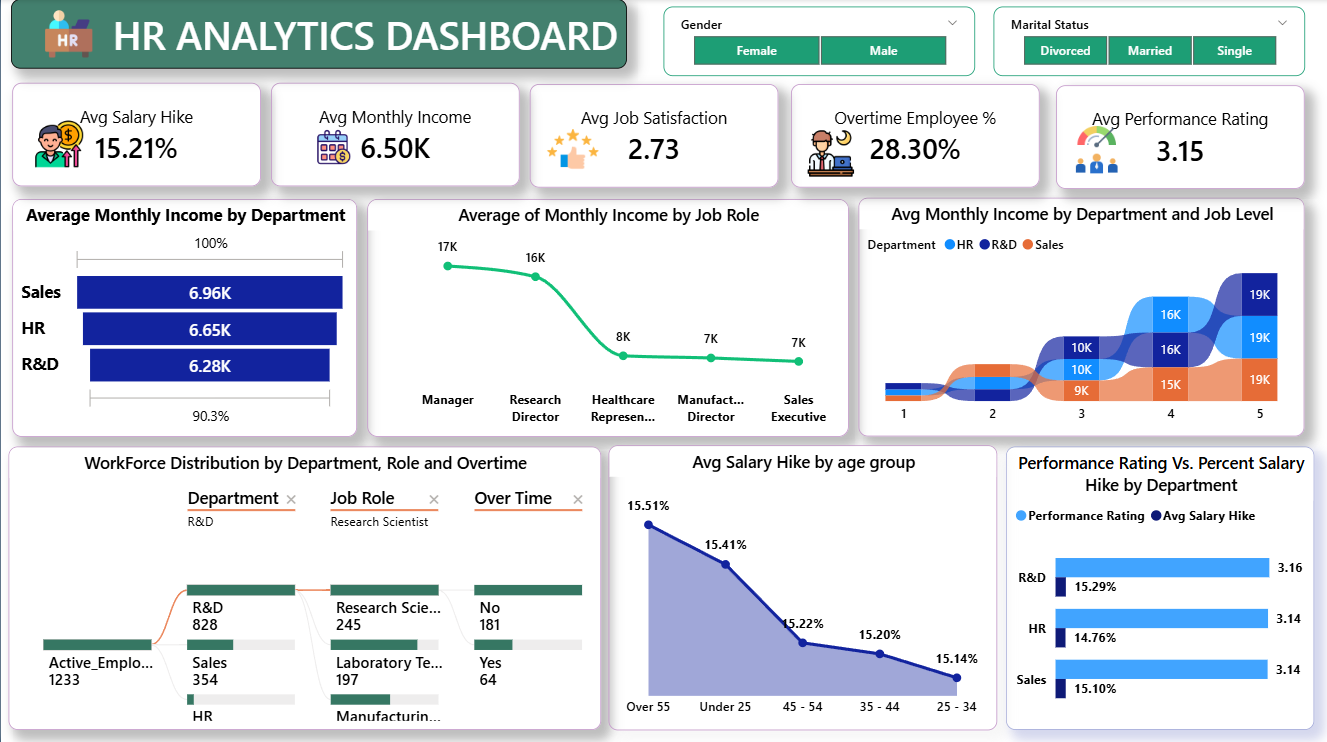

The dashboard page shown, as its layout file describes it:
{"tool":"powerbi","page":{"name":"Employee Performance & Compensation","canvas":[1280,720],"ordinal":1},"visuals":[{"type":"funnel","title":"Average  Monthly Income by Department","fields":{"Category":["HR data.Department"],"Y":["Avg(HR data.Monthly Income)"]},"box":[10.9,193,333,229.2],"z":0},{"type":"lineChart","fields":{"Category":["HR data.Job Role"],"Y":["Avg(HR data.Monthly Income)"]},"box":[353.5,193,464.5,229.2],"z":1000},{"type":"cardVisual","fields":{"Data":["HR data.Avg Salary Hike"]},"box":[10.9,80.8,240.1,100.1],"z":2000},{"type":"ribbonChart","title":"Avg Monthly Income by Department and Job Level","fields":{"Y":["Avg(HR data.Monthly Income)"],"Category":["HR data.Job Level"],"Series":["HR data.Department"]},"box":[827.6,191.8,430.7,230.4],"z":3000},{"type":"image","box":[31.4,117,49.5,45.8],"z":4000},{"type":"cardVisual","fields":{"Data":["Avg(HR data.Monthly Income)"]},"box":[260.6,80.8,240.1,100.1],"z":5000},{"type":"cardVisual","fields":{"Data":["HR data.Avg Job Satisfaction"]},"box":[510.3,82,240.1,100.1],"z":6000},{"type":"cardVisual","fields":{"Data":["HR data.Overtime Employee %"]},"box":[762.5,82,240.1,100.1],"z":7000},{"type":"image","box":[774.5,126.7,53.1,44.6],"z":8000},{"type":"image","box":[524.8,117,54.3,54.3],"z":9000},{"type":"image","box":[298,114.6,45.8,56.7],"z":10000},{"type":"cardVisual","fields":{"Data":["Avg(HR data.Performance Rating)"]},"box":[1018.2,83.2,240.1,100.1],"z":11000},{"type":"image","box":[1032.7,117,49.5,56.7],"z":12000},{"type":"clusteredBarChart","title":"Performance Rating Vs. Percent Salary Hike by Department","fields":{"Y":["Avg(HR data.Performance Rating)","HR data.Avg Salary Hike"],"Category":["HR data.Department"]},"box":[970,431.9,298,273.9],"z":13000},{"type":"decompositionTreeVisual","title":"WorkForce Distribution by Department, Role and Overtime","fields":{"ExplainBy":["HR data.Department","HR data.Job Role","HR data.Over Time"],"Analyze":["HR data.Active_Employees"]},"box":[7.2,431.9,571.9,273.9],"z":14000},{"type":"areaChart","title":"Avg Salary Hike by age group","fields":{"Y":["HR data.Avg Salary Hike"],"Category":["HR data.CF_age band"]},"box":[586.3,430.7,375.2,275.1],"z":15000},{"type":"textbox","box":[9.7,0,594.8,67.6],"z":16000},{"type":"image","box":[31.4,10.9,67.6,45.8],"z":17000},{"type":"slicer","fields":{"Values":["HR data.Marital Status"]},"box":[957.9,7.2,300.4,67.6],"z":18000},{"type":"slicer","fields":{"Values":["HR data.Gender"]},"box":[639.4,7.2,300.4,67.6],"z":19000}]}

Visuals, with their boxes in screenshot pixels (x1, y1, x2, y2), scaled from the page's 1280x720 canvas onto the 1327x742 screenshot:
"Average  Monthly Income by Department" funnel: [x1=11, y1=199, x2=357, y2=435]
lineChart - HR data.Job Role x Avg(HR data.Monthly Income): [x1=366, y1=199, x2=848, y2=435]
cardVisual - HR data.Avg Salary Hike: [x1=11, y1=83, x2=260, y2=186]
"Avg Monthly Income by Department and Job Level" ribbonChart: [x1=858, y1=198, x2=1305, y2=435]
image: [x1=33, y1=121, x2=84, y2=168]
cardVisual - Avg(HR data.Monthly Income): [x1=270, y1=83, x2=519, y2=186]
cardVisual - HR data.Avg Job Satisfaction: [x1=529, y1=85, x2=778, y2=188]
cardVisual - HR data.Overtime Employee %: [x1=790, y1=85, x2=1039, y2=188]
image: [x1=803, y1=131, x2=858, y2=177]
image: [x1=544, y1=121, x2=600, y2=177]
image: [x1=309, y1=118, x2=356, y2=177]
cardVisual - Avg(HR data.Performance Rating): [x1=1056, y1=86, x2=1305, y2=189]
image: [x1=1071, y1=121, x2=1122, y2=179]
"Performance Rating Vs. Percent Salary Hike by Department" clusteredBarChart: [x1=1006, y1=445, x2=1315, y2=727]
"WorkForce Distribution by Department, Role and Overtime" decompositionTreeVisual: [x1=7, y1=445, x2=600, y2=727]
"Avg Salary Hike by age group" areaChart: [x1=608, y1=444, x2=997, y2=727]
textbox: [x1=10, y1=0, x2=627, y2=70]
image: [x1=33, y1=11, x2=103, y2=58]
slicer - HR data.Marital Status: [x1=993, y1=7, x2=1305, y2=77]
slicer - HR data.Gender: [x1=663, y1=7, x2=974, y2=77]
